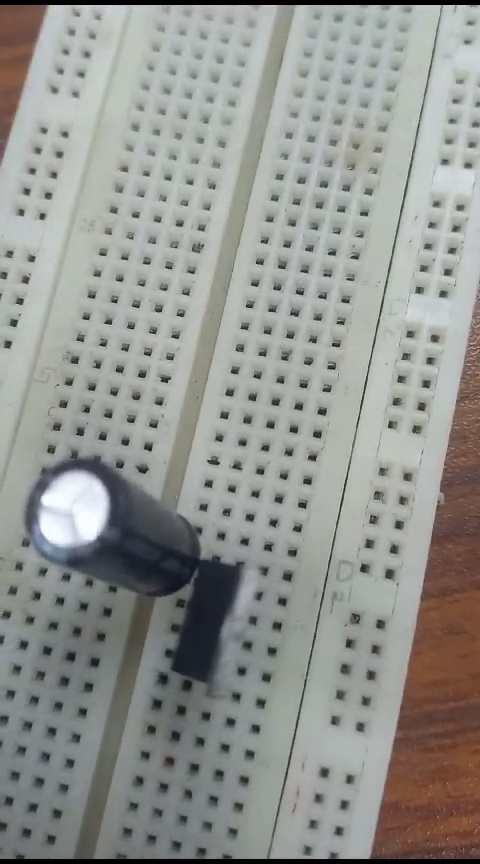capacitor: (20, 453, 198, 605)
voltage regulator: (174, 560, 256, 695)
